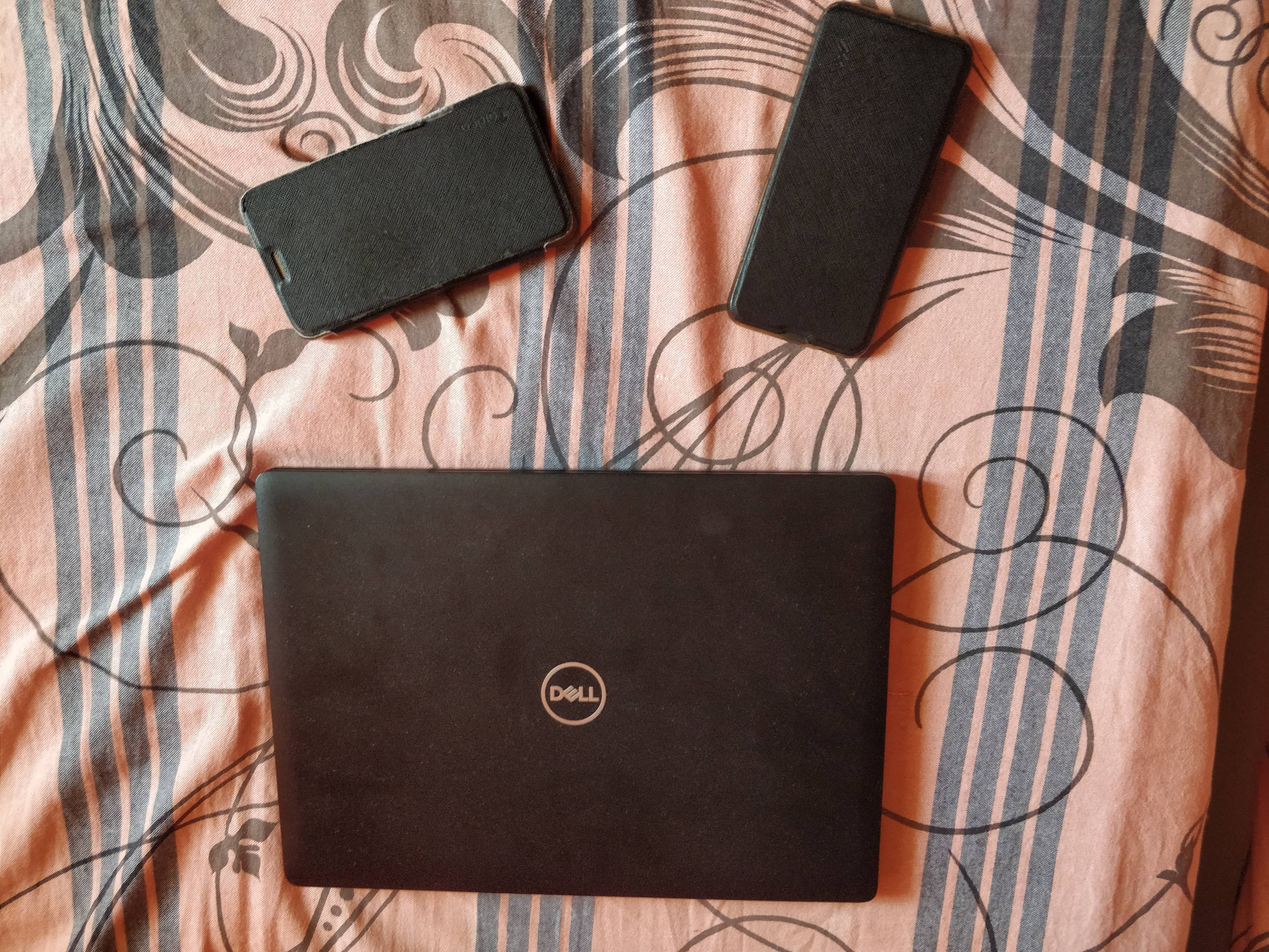Electronics: (244, 451, 916, 924), (705, 9, 1008, 366), (226, 66, 598, 353)
